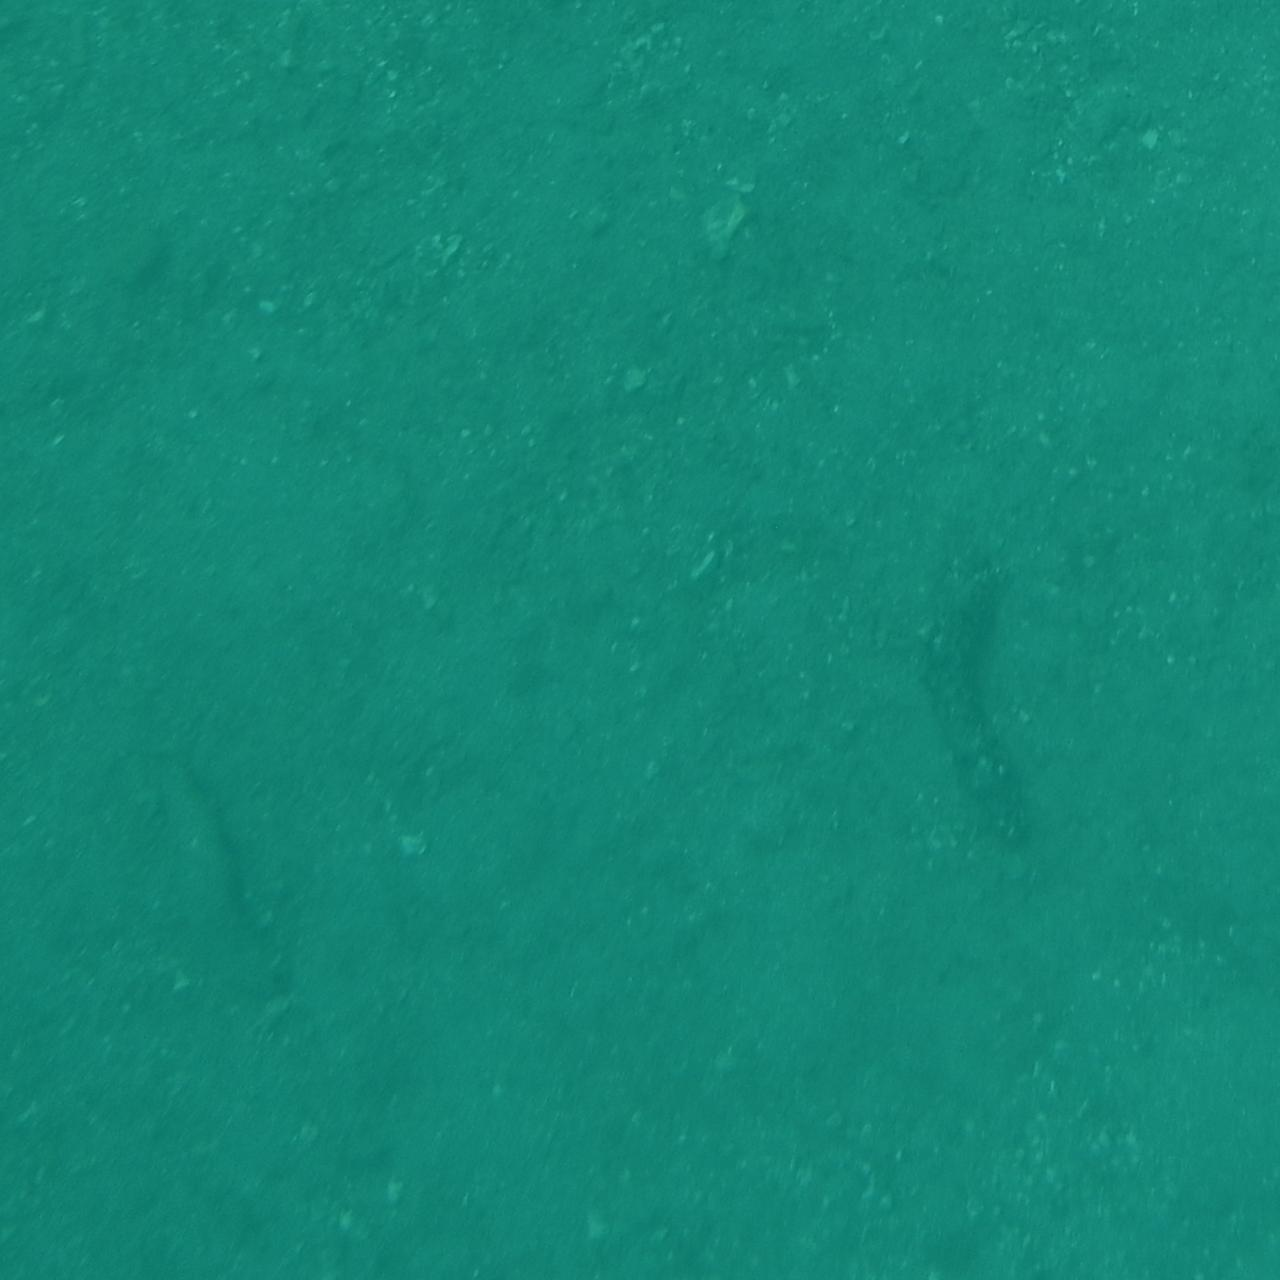Holothuria tubulosa: (919, 542, 1051, 867), (129, 736, 271, 1012), (1151, 554, 1280, 765), (0, 261, 75, 551), (0, 402, 86, 631), (0, 749, 168, 862), (1155, 751, 1280, 877)
